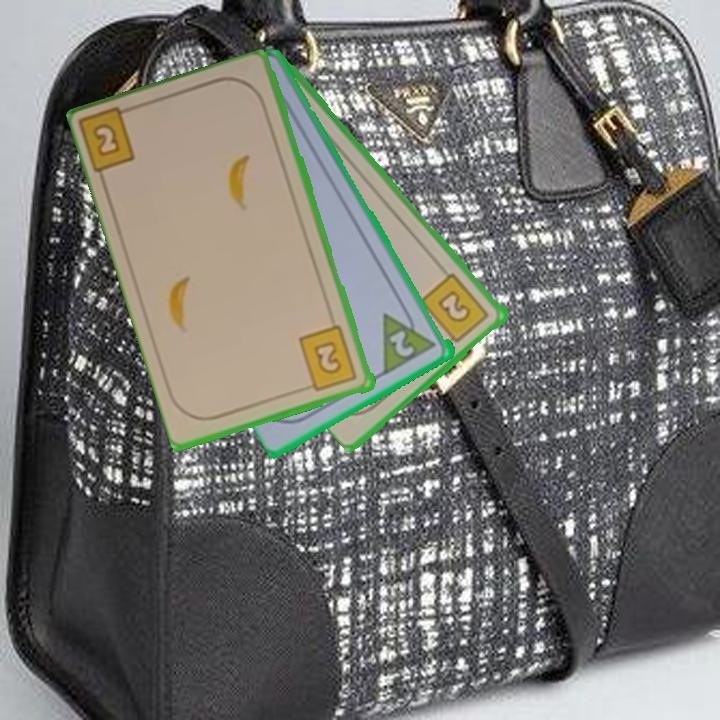2b: (417, 269, 493, 350), (78, 102, 142, 178), (296, 322, 361, 394)
2p: (379, 300, 440, 377)
